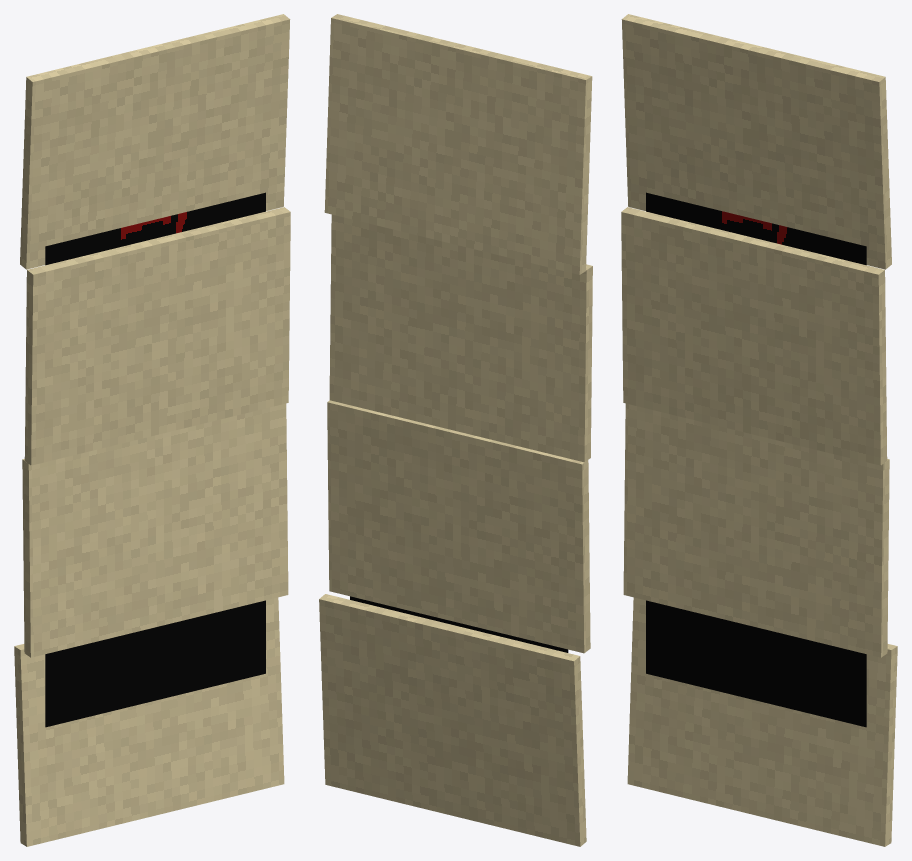
The model's file is item_ofuda.glb.
3 renders of one model, left to right at view 1: azimuth 30°, elevation 25°; view 2: azimuth 150°, elevation 25°; view 3: azimuth 330°, elevation 25°, orthographic.
Parts seen in each view (by area): view 1: item_ofuda; view 2: item_ofuda; view 3: item_ofuda.
Part boxes in pixels (<box>): item_ofuda: <box>14,14,290,846</box>; item_ofuda: <box>319,14,592,846</box>; item_ofuda: <box>621,14,897,846</box>.
Bounding box in the file's own units: 0.07 × 0.2001 × 0.00899.
2 materials, 2 textured.
